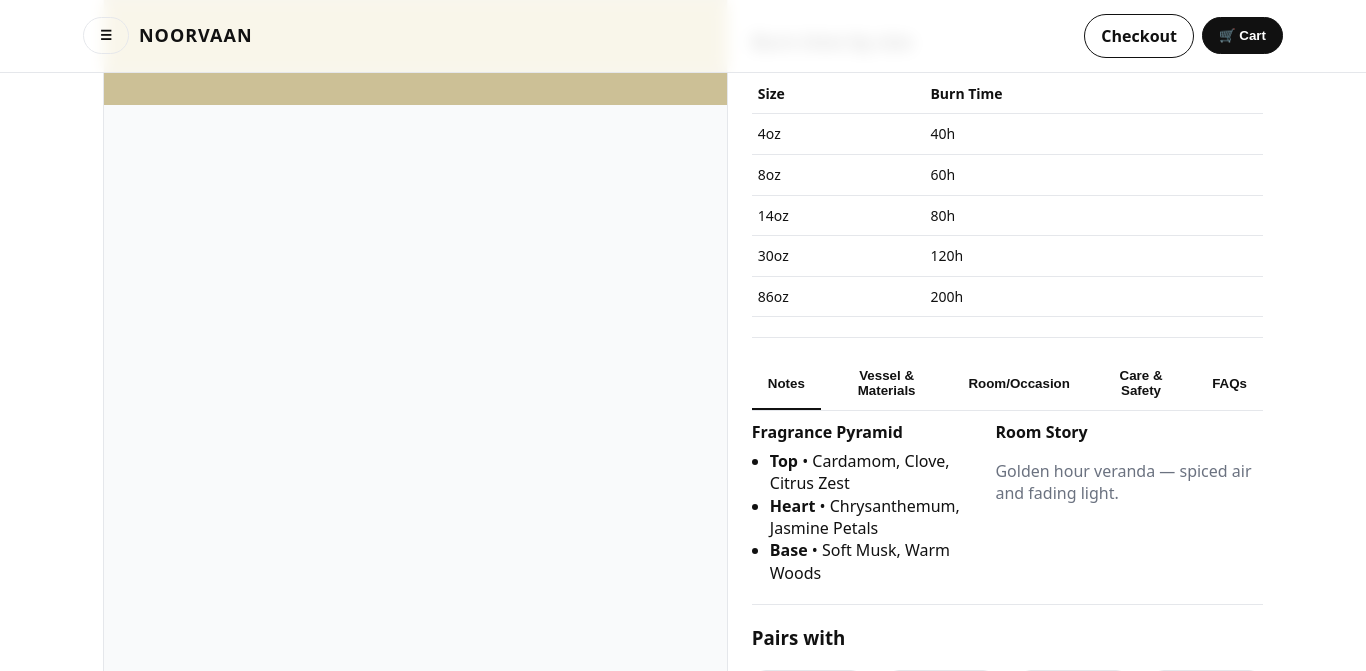
PDP interactions and details › renders burn-time table with at least 5 rows and notes tab
This screenshot has width=1366, height=671.
(page scrolled)
Expected: the text "Fragrance Pyramid" is shown, [752,421,903,443]
Expected: the text "Room Story" is shown, [996,421,1088,443]
Note: Switch to Care & Safety tab
What coordinates should you click on to do the following:
click the button "Care & Safety"
I would click on:
 (1141, 384)
Its box is [1094,358,1188,410].
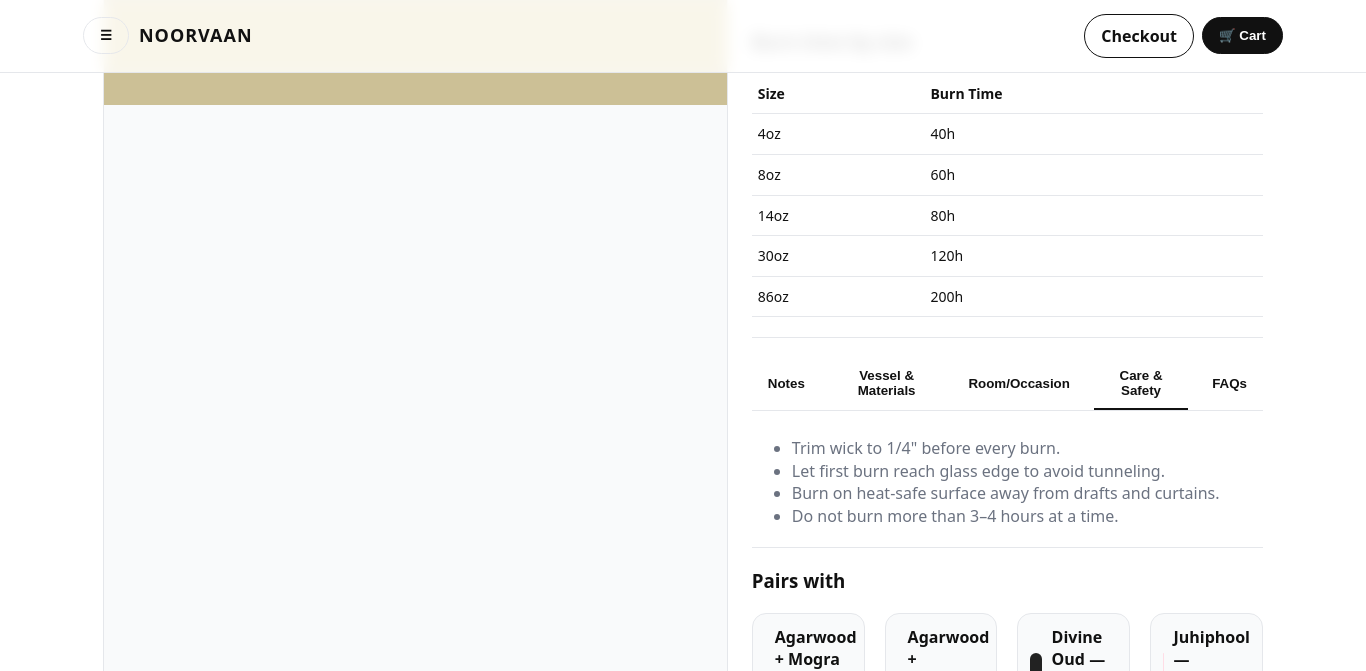
Result: the list item "Trim wick to 1/4\" before every burn." is shown at [792,437,1060,459]
